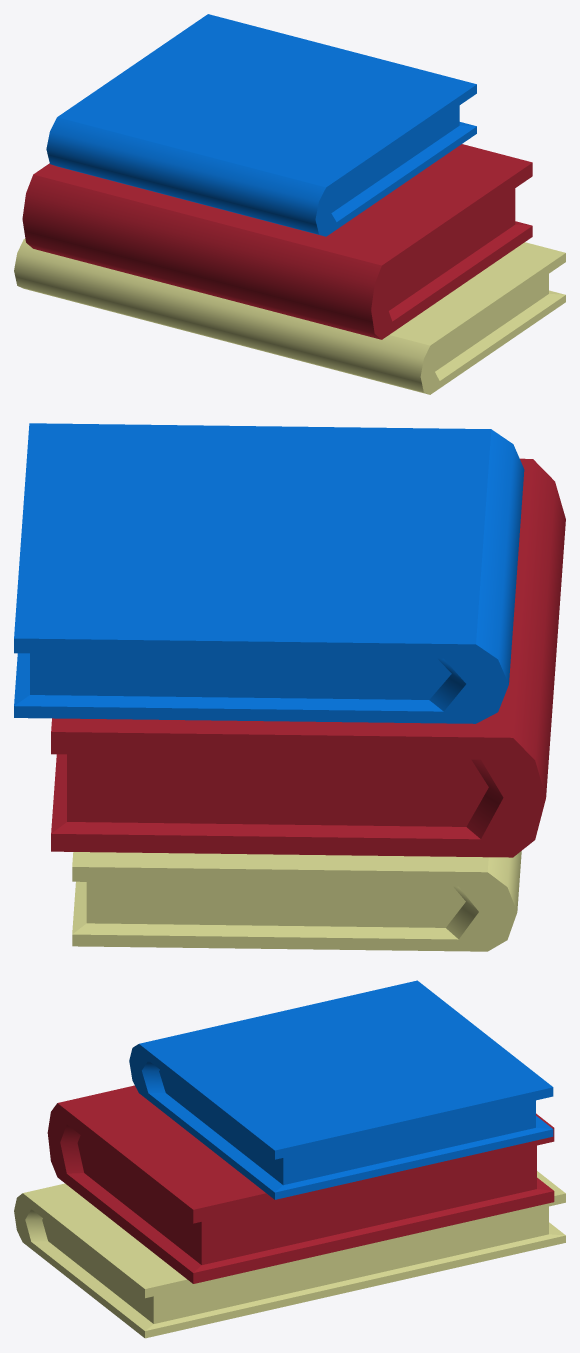
Rendered from Books.fbx.
3 renders of one model, top to bottom at view 1: azimuth 30°, elevation 25°; view 2: azimuth 150°, elevation 25°; view 3: azimuth 270°, elevation 25°, orthographic. The views are drawn at different scales.
Visible parts, largest first — view 1: polySurface102; view 2: polySurface102; view 3: polySurface102.
Part boxes in pixels (box(x1,y1,x2,y2)): polySurface102: box(14, 14, 565, 394); polySurface102: box(14, 423, 565, 951); polySurface102: box(14, 980, 565, 1338).
Size of the model in its own units: 90.88 by 37.17 by 106.
